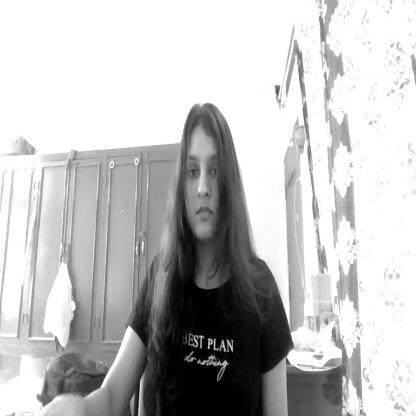Normal: (176, 103, 238, 256)
